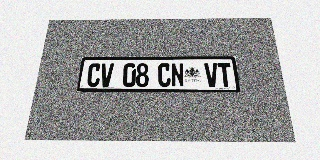0: (122, 63, 136, 87)
8: (136, 63, 149, 87)
C: (86, 63, 101, 87), (158, 63, 171, 87)
N: (171, 63, 184, 87)
T: (217, 63, 233, 87)
V: (99, 63, 114, 87), (204, 63, 219, 87)
